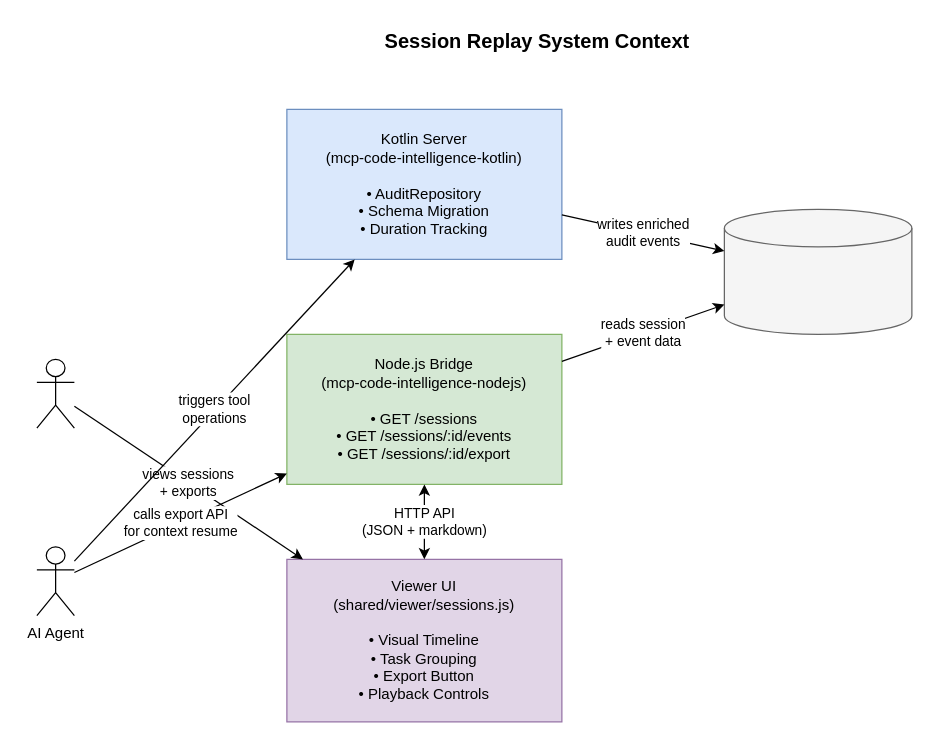
Some shapes in this 934 by 744 pixel diagram are drawn without their labels. The shapes that lost their labels are listed below. From the top down, each one's centre as x and y in pixels, then its label:
the point at 817,271: SQLite Database (memory_audit table)
the point at 55,393: Developer
